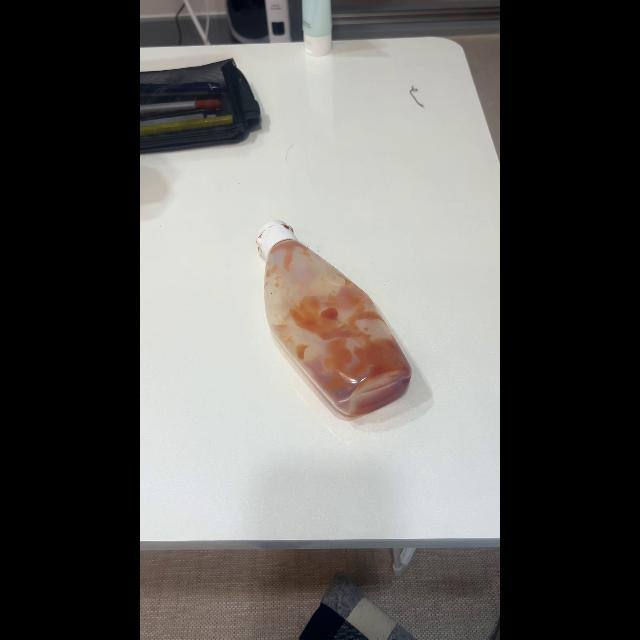dirty: (256, 219, 412, 421)
